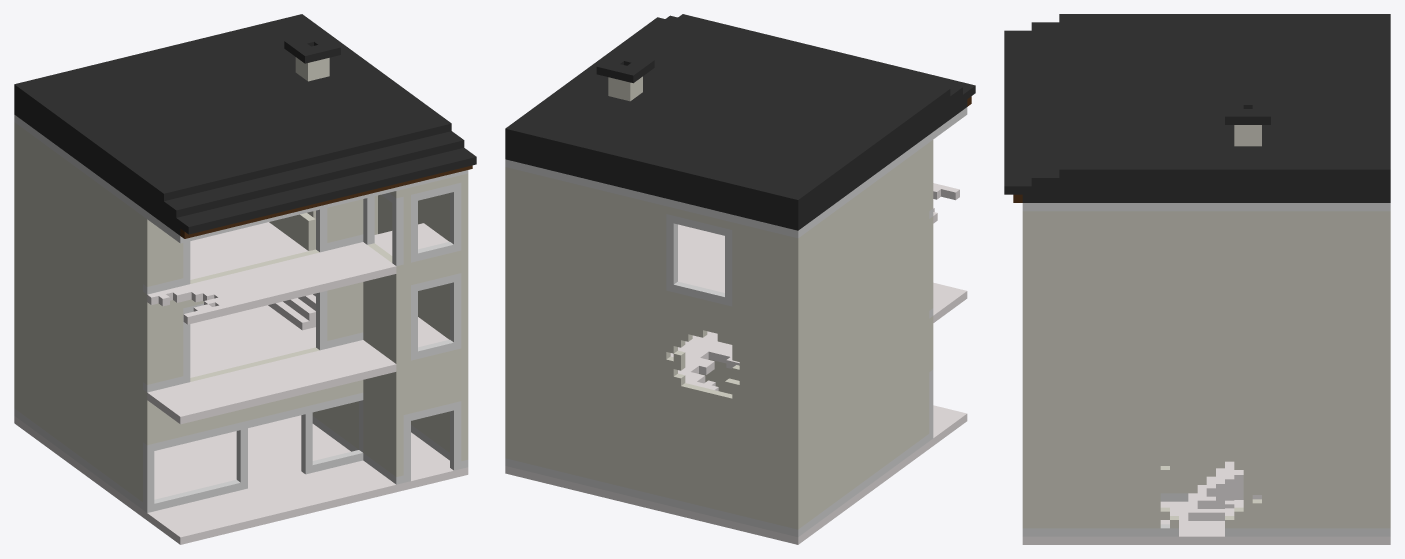
File: do ciacole.obj
3 views of the same model, side by side, from view 1: azimuth 30°, elevation 25°; view 2: azimuth 150°, elevation 25°; view 3: azimuth 270°, elevation 25° (orthographic). The views are drawn at different scales.
Bounding box in the file's own units: 4 × 4.9 × 4.2.
Materials: 1 (1 with a texture image).
